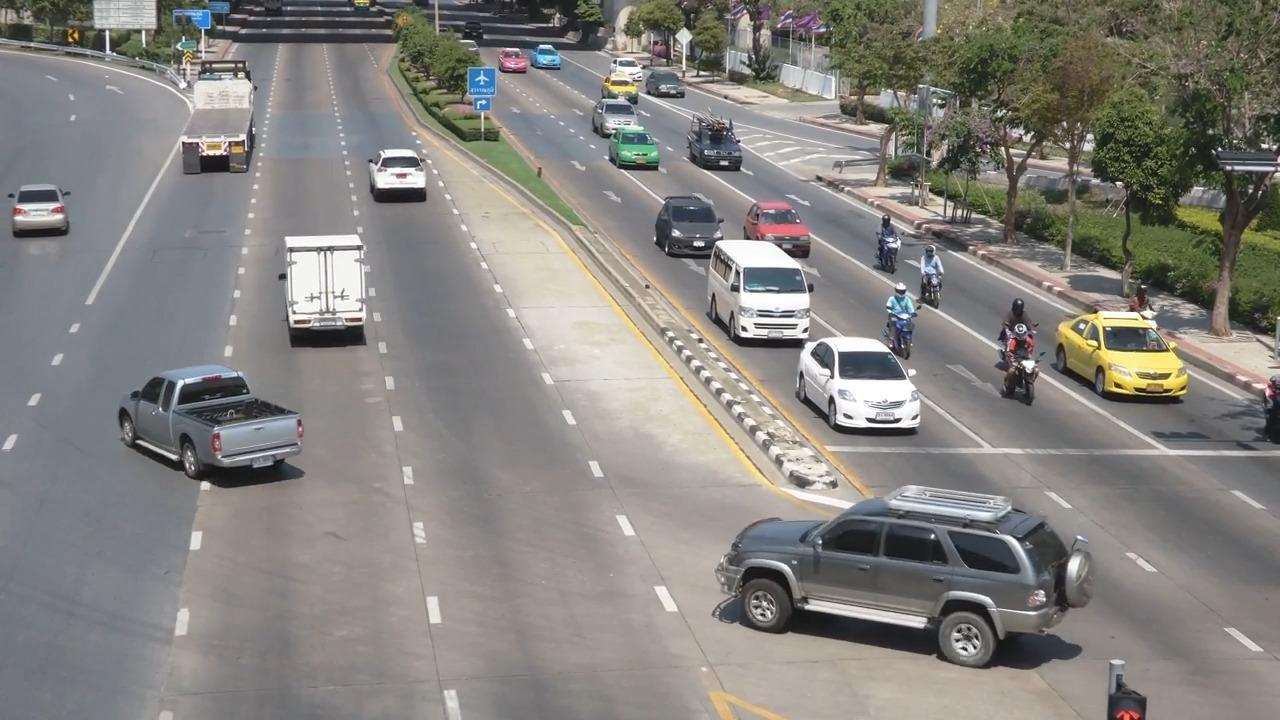CAR: (703, 459, 1099, 669), (116, 355, 311, 507), (265, 229, 394, 355), (1051, 297, 1192, 412), (794, 317, 922, 434), (699, 232, 810, 349), (2, 172, 77, 268), (733, 189, 819, 263), (652, 186, 726, 261), (366, 137, 442, 210), (675, 108, 744, 174), (605, 125, 657, 177), (590, 96, 650, 141), (599, 55, 649, 89), (645, 62, 690, 98), (522, 33, 556, 70), (491, 42, 524, 74)
HGV_BUS: (166, 56, 270, 188)
MOTOR: (984, 324, 1046, 401), (873, 279, 928, 362), (853, 205, 909, 282), (912, 242, 957, 310), (1127, 268, 1160, 320)
